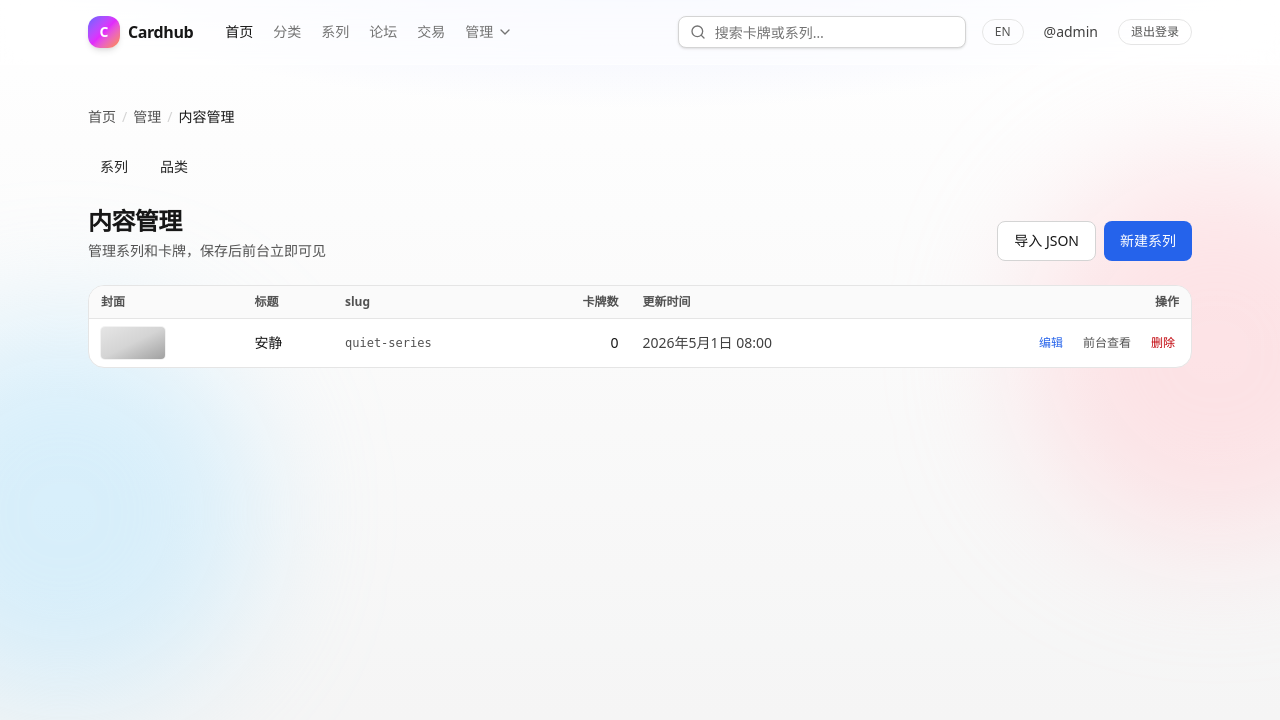
it: CatalogSeriesPage delete › deletes an empty series with inline confirmation and returns focus on cancel
Click the button with aria-label "删除「安静」" at x=1163, y=343, box [1147, 331, 1179, 355]
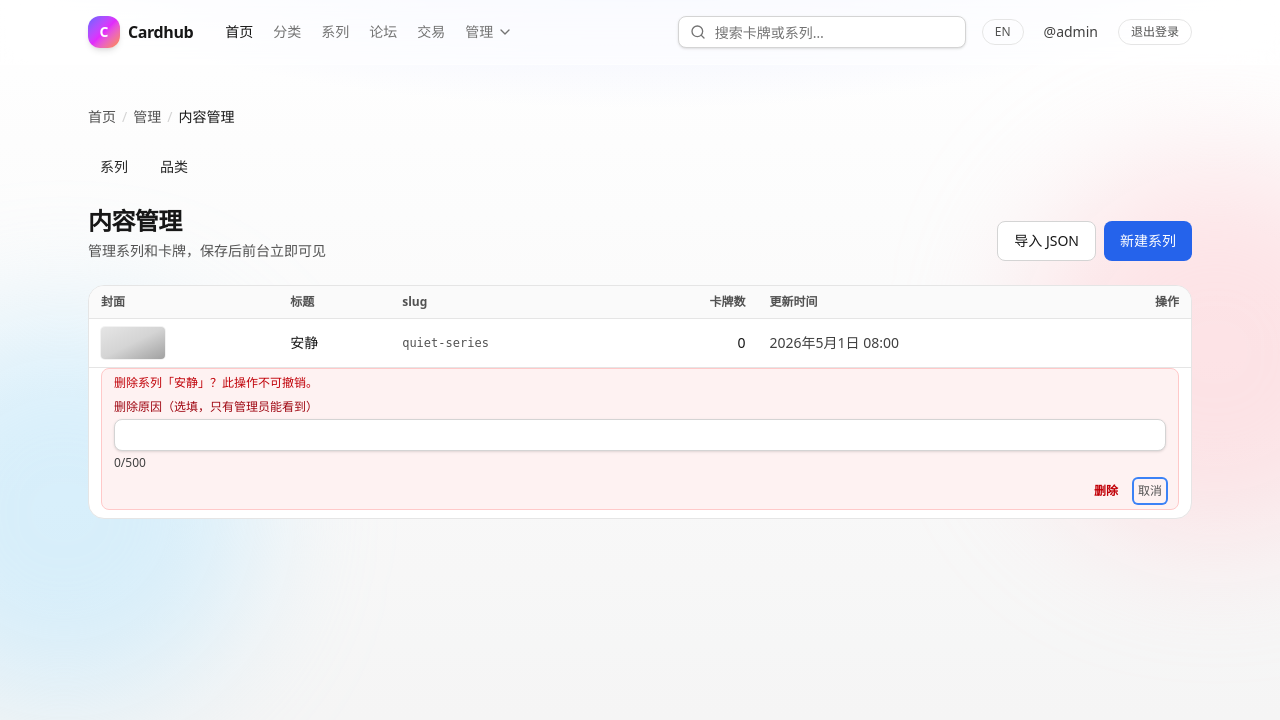
Check: the element "删除系列「安静」？此操作不可撤销。" is shown, box [101, 368, 1179, 510]
Press Escape
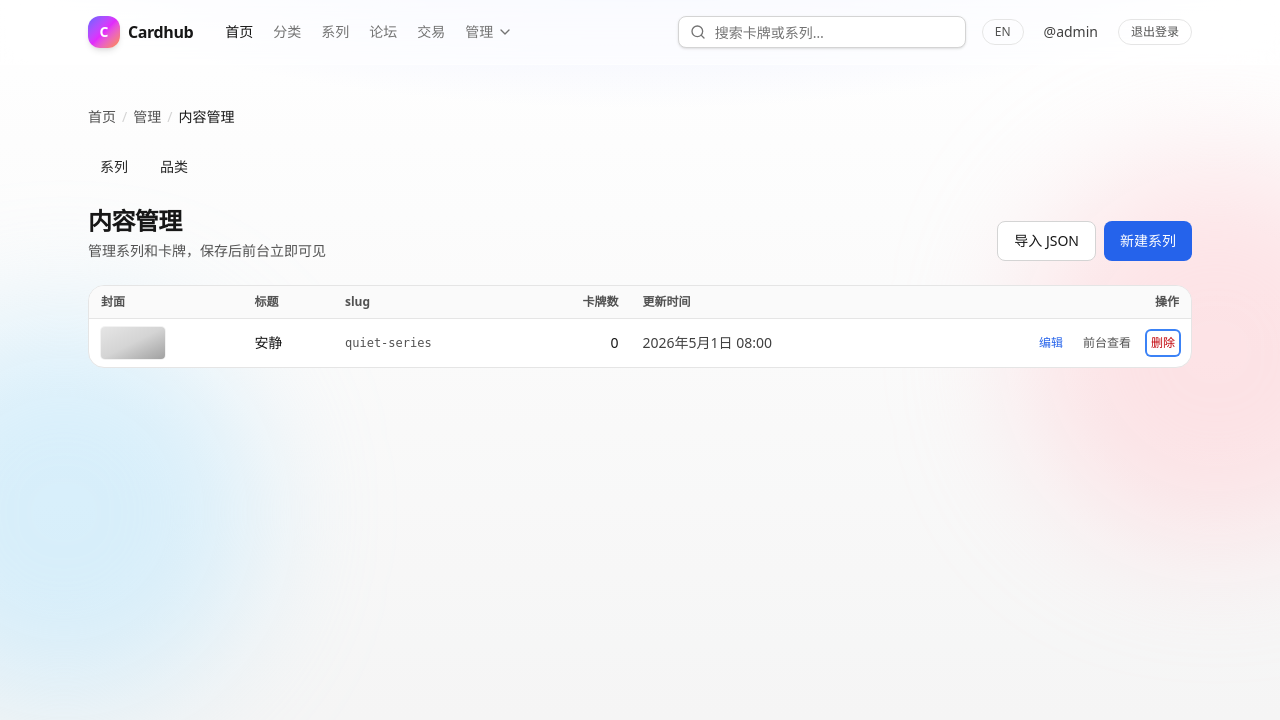
Click the button with aria-label "删除「安静」" at x=1163, y=343, box [1147, 331, 1179, 355]
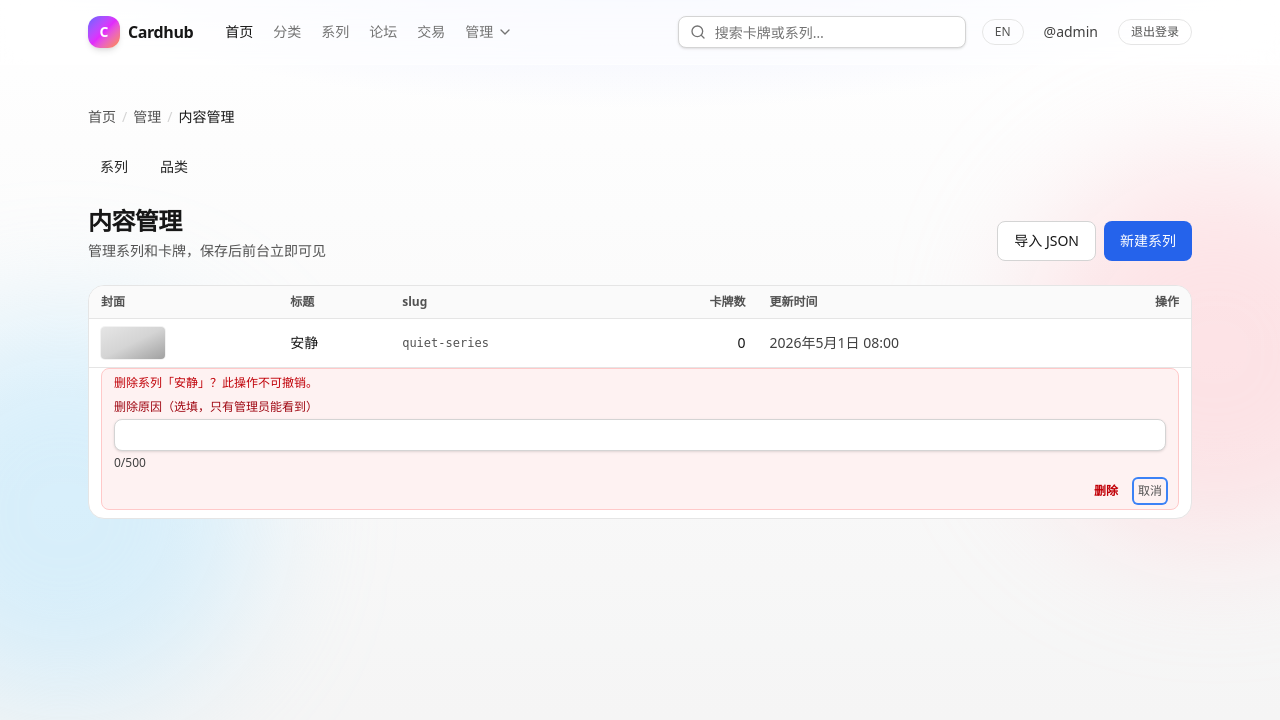
Click the button "删除" at x=1106, y=491, box [1090, 479, 1122, 503]
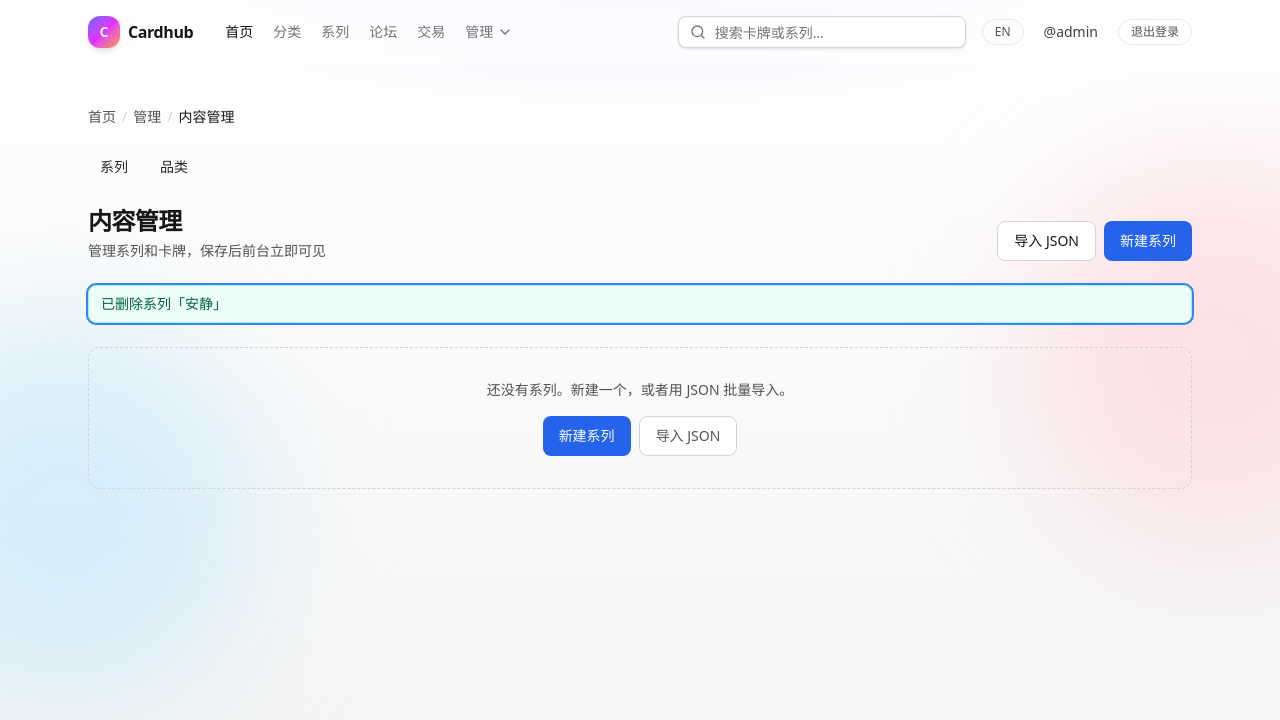
Check: the message reads "已删除系列「安静」", box [101, 294, 227, 313]
